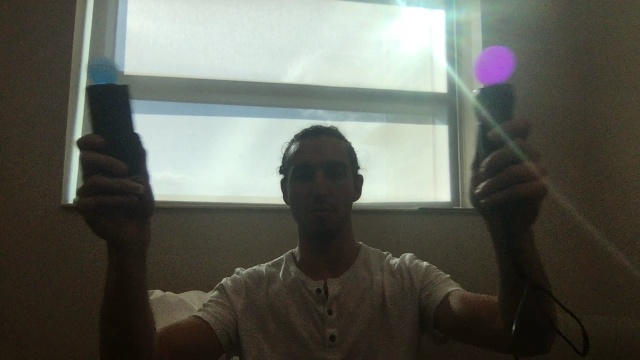wand: (476, 48, 516, 83), (85, 55, 125, 87)
